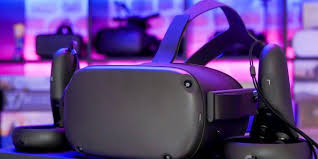oculus: (57, 63, 257, 158)
